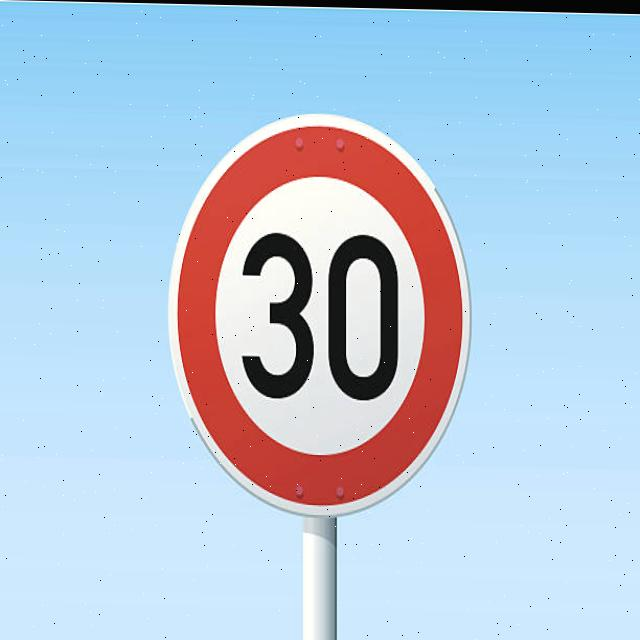Speed limit 30: (167, 107, 475, 521)
